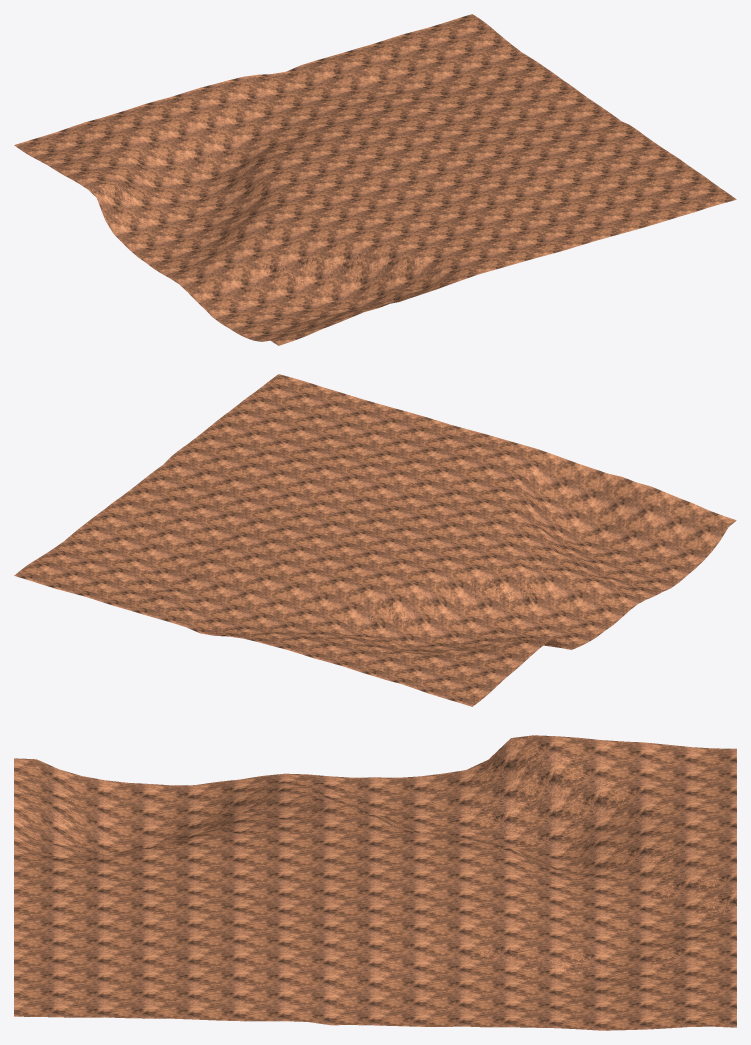
Rendered from terrain_04_20.dae.
3 renders of one model, top to bottom at view 1: azimuth 30°, elevation 25°; view 2: azimuth 150°, elevation 25°; view 3: azimuth 270°, elevation 25°, orthographic. The views are drawn at different scales.
Visible parts, largest first — view 1: terrain_04_20-node; view 2: terrain_04_20-node; view 3: terrain_04_20-node.
Part boxes in pixels (x1,y1,x2,y2): terrain_04_20-node: (14, 14, 736, 345); terrain_04_20-node: (14, 374, 736, 706); terrain_04_20-node: (14, 735, 736, 1030).
Size of the model in its own units: 128 by 128 by 14.48.
1 material, 1 textured.
